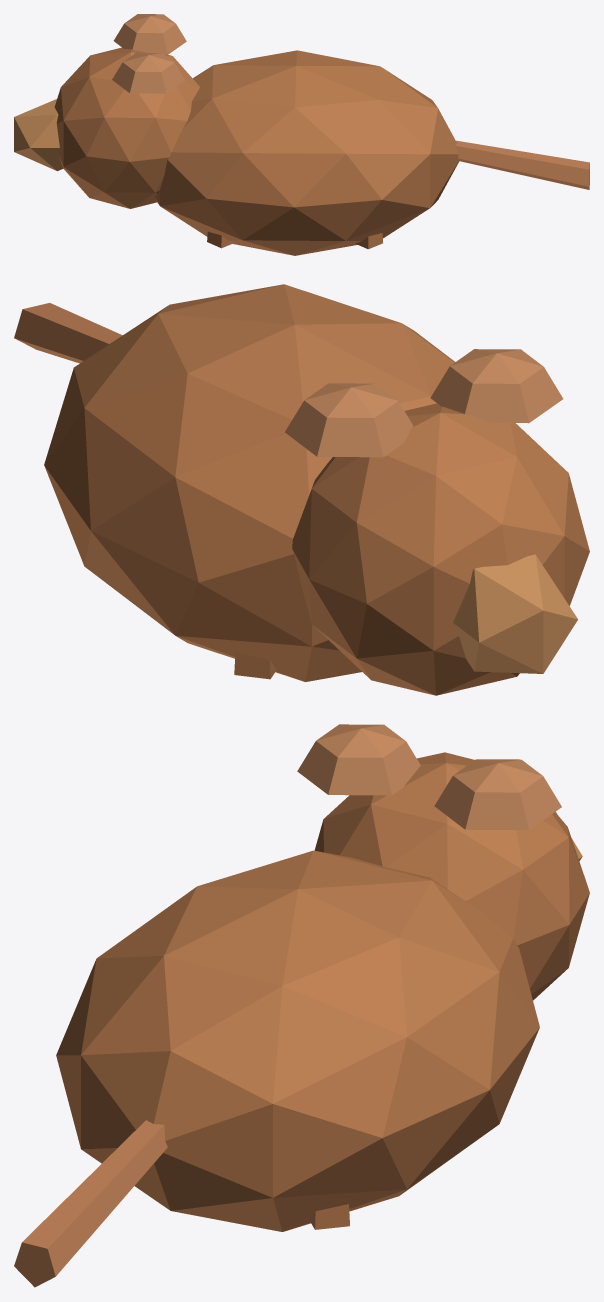
Rendered from rat_fire_v0.glb.
3 views of the same model, one above another, from view 1: azimuth 30°, elevation 25°; view 2: azimuth 150°, elevation 25°; view 3: azimuth 270°, elevation 25° (orthographic). The views are drawn at different scales.
Parts seen in each view (by area): view 1: world; view 2: world; view 3: world.
Part boxes in pixels (left/top/right/bottom): world: left=14, top=14, right=589, bottom=255; world: left=14, top=284, right=589, bottom=695; world: left=14, top=724, right=589, bottom=1287.
Size of the model in its own units: 1 by 0.4471 by 0.6576.
